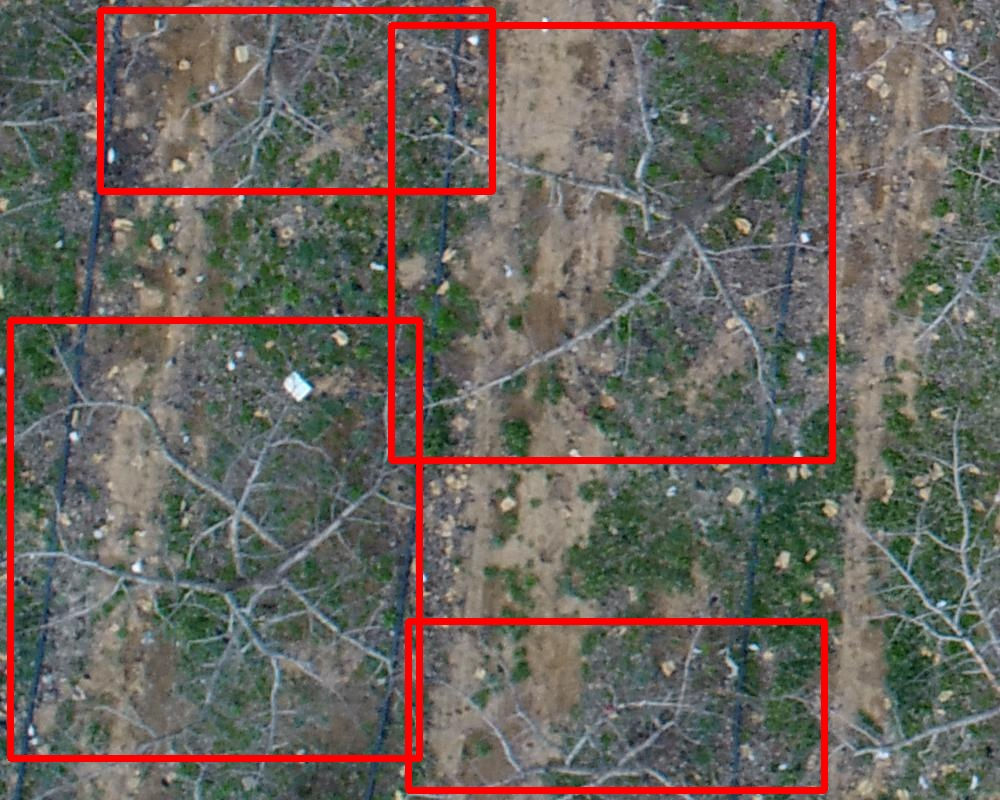apple: (391, 25, 832, 460), (10, 320, 419, 758), (100, 10, 492, 191), (408, 621, 824, 790)
